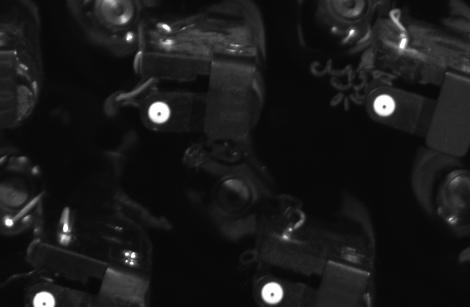fiber: (365, 86, 411, 123), (141, 95, 182, 132), (253, 276, 293, 307), (26, 287, 63, 307)
